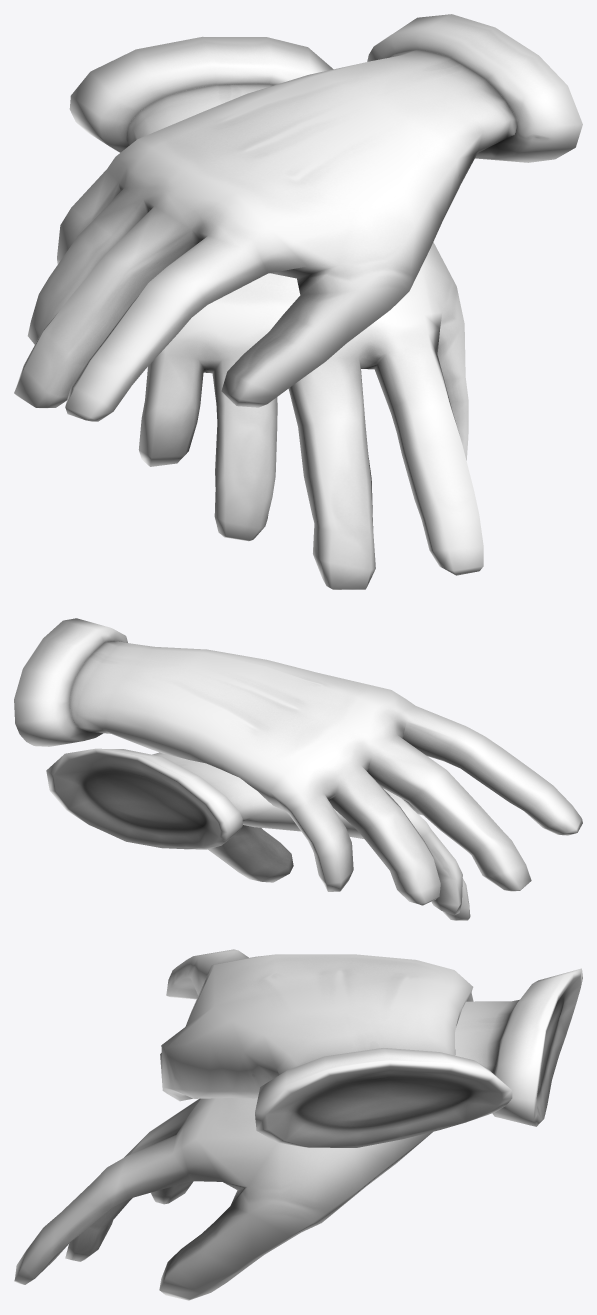
The model's file is 038_leather_gloves.fbx.
3 renders of one model, top to bottom at view 1: azimuth 30°, elevation 25°; view 2: azimuth 150°, elevation 25°; view 3: azimuth 270°, elevation 25°, orthographic. The views are drawn at different scales.
Parts seen in each view (by area): view 1: 038_leather_gloves; view 2: 038_leather_gloves; view 3: 038_leather_gloves.
Boxes of the visible parts, x1,y1,x2,y2 form: 038_leather_gloves: (14,14,582,589); 038_leather_gloves: (14,618,582,920); 038_leather_gloves: (14,949,582,1300).
Bounding box in the file's own units: 32.98 × 20.68 × 31.82.
